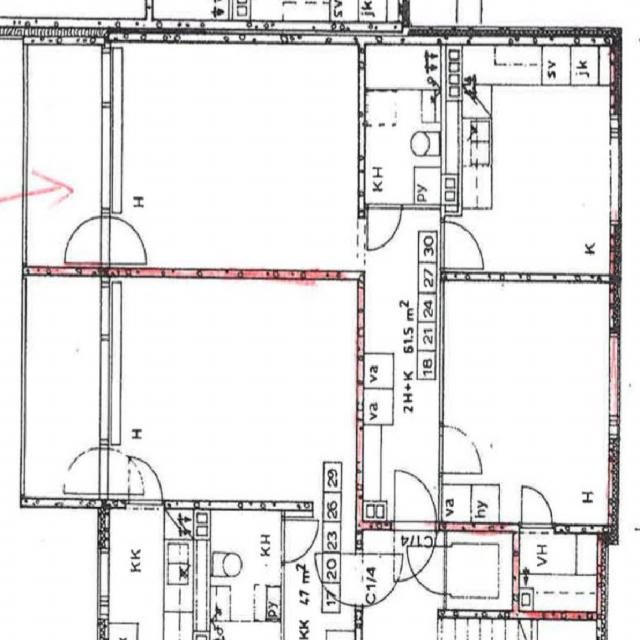door: (394, 524, 436, 585), (394, 472, 436, 532), (63, 216, 109, 262), (100, 216, 146, 262), (441, 426, 483, 474), (441, 222, 481, 266), (368, 204, 400, 249), (521, 487, 551, 532)
